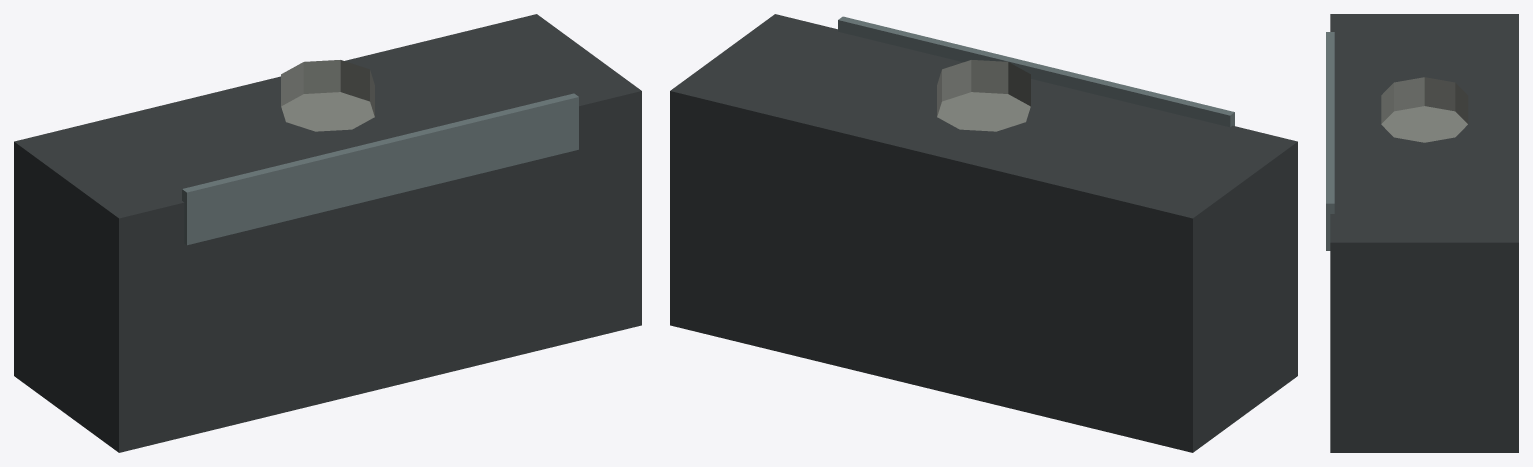
Rendered from quench_trough.glb.
3 renders of one model, left to right at view 1: azimuth 30°, elevation 25°; view 2: azimuth 150°, elevation 25°; view 3: azimuth 270°, elevation 25°, orthographic. The views are drawn at different scales.
Visible parts, largest first — view 1: body; view 2: body; view 3: body.
Boxes of the visible parts, x1,y1,x2,y2 form: body: [14, 14, 641, 452]; body: [670, 14, 1297, 452]; body: [1326, 14, 1518, 452].
Bounding box in the file's own units: 1.12 × 0.555 × 0.399.
1 material, 1 textured.
